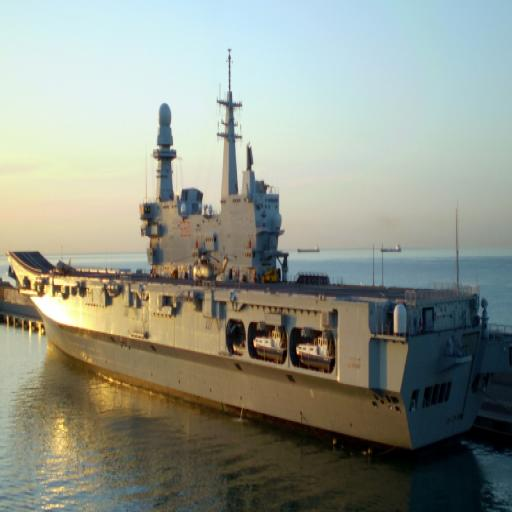Portanaves: (2, 43, 493, 460)
